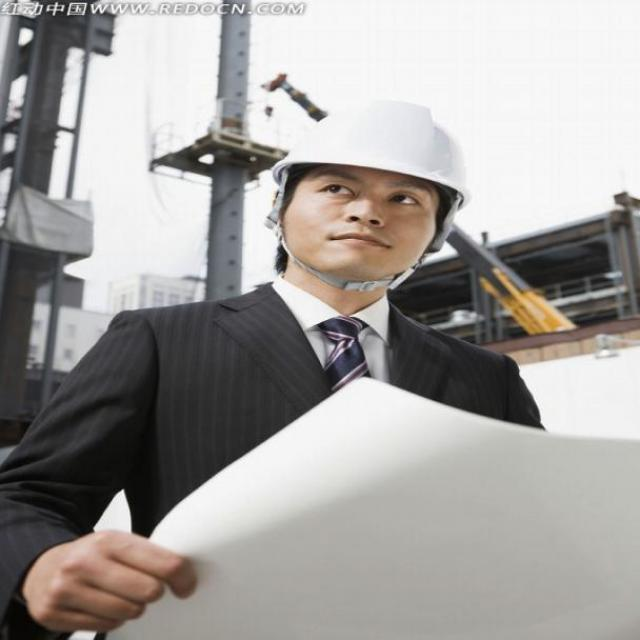helmet: (243, 80, 458, 307)
